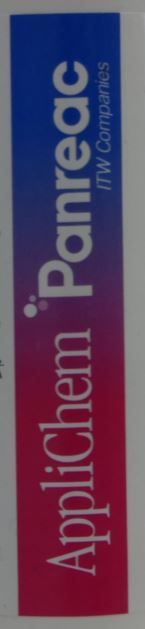ApplichemPanreac: (23, 60, 117, 577)
